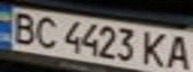2: (96, 22, 121, 61)
3: (115, 25, 142, 64)
4: (57, 19, 84, 54), (78, 20, 100, 57)
A: (163, 33, 193, 71)
B: (6, 10, 42, 45)
C: (30, 15, 63, 49)
K: (139, 29, 172, 70)
